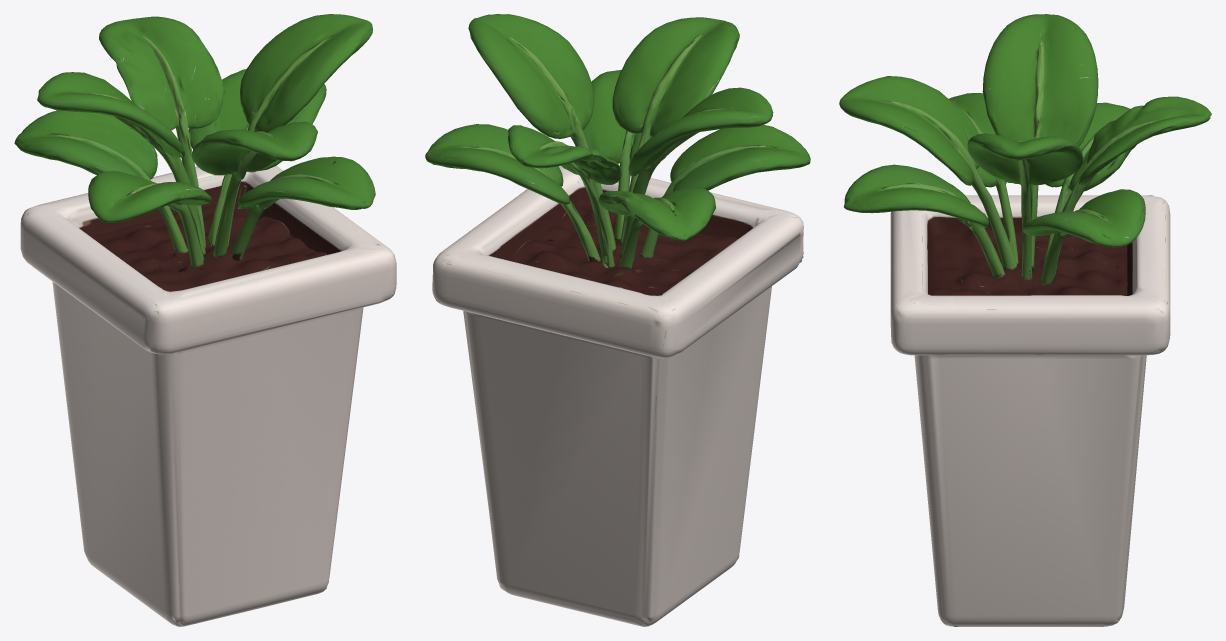
The model's file is Meshy_AI_Potted_Greenery_20261029_texture.fbx.
3 renders of one model, left to right at view 1: azimuth 30°, elevation 25°; view 2: azimuth 150°, elevation 25°; view 3: azimuth 270°, elevation 25°, orthographic. The views are drawn at different scales.
Parts seen in each view (by area): view 1: Mesh_0; view 2: Mesh_0; view 3: Mesh_0.
Boxes of the visible parts, box(x1,y1,x2,y2) form: Mesh_0: box(14, 14, 396, 626); Mesh_0: box(425, 14, 810, 626); Mesh_0: box(839, 14, 1211, 626).
Bounding box in the file's own units: 59.47 × 95.17 × 61.96.
1 material, 1 textured.
